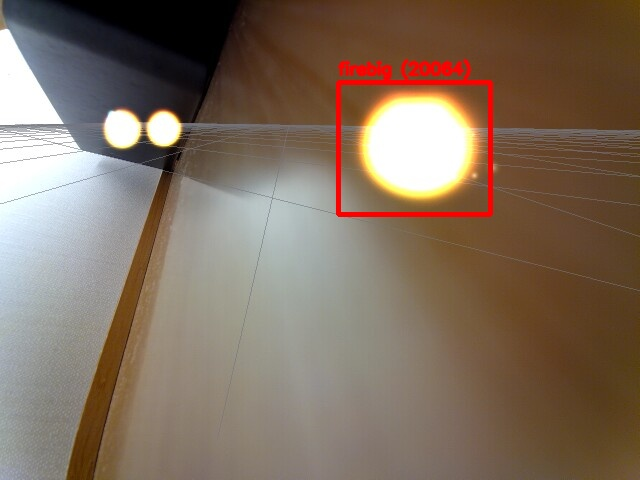firebig: (338, 82, 490, 214)
